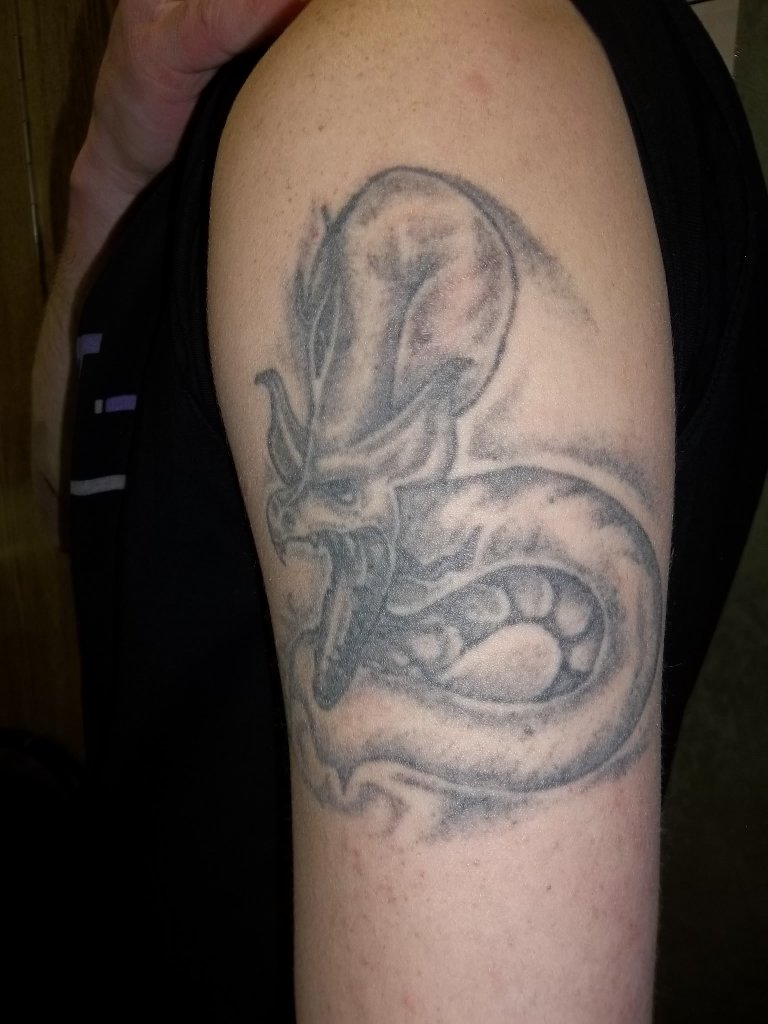tatu6_drakon: (240, 134, 670, 840)
